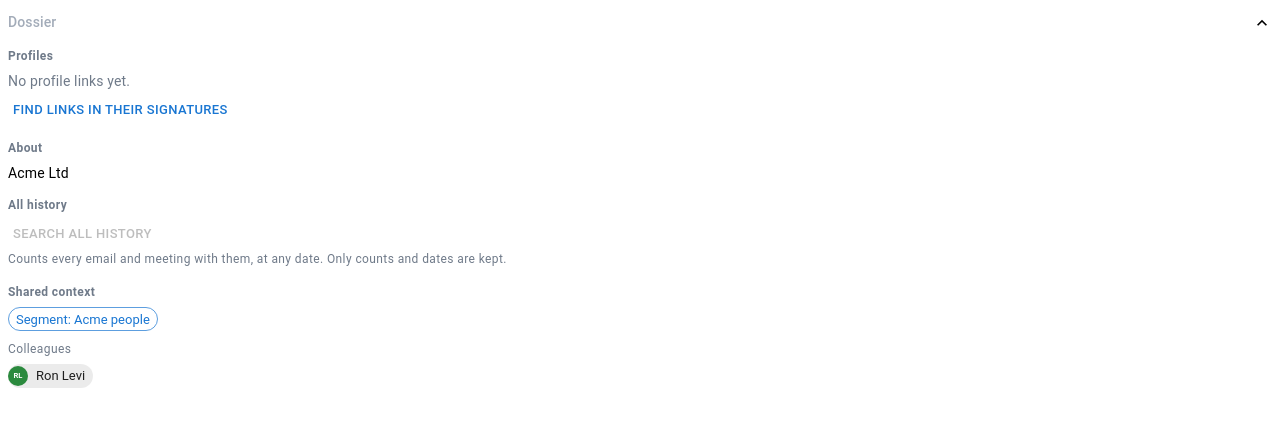
Test: the dossier (AD-46 rule 6) › does not say "no email" when their emails were only invitations
This screenshot has width=1280, height=425.
Click the button "Find links in their signatures" at point(120, 110), box top-left (8, 95), bottom-right (233, 126)
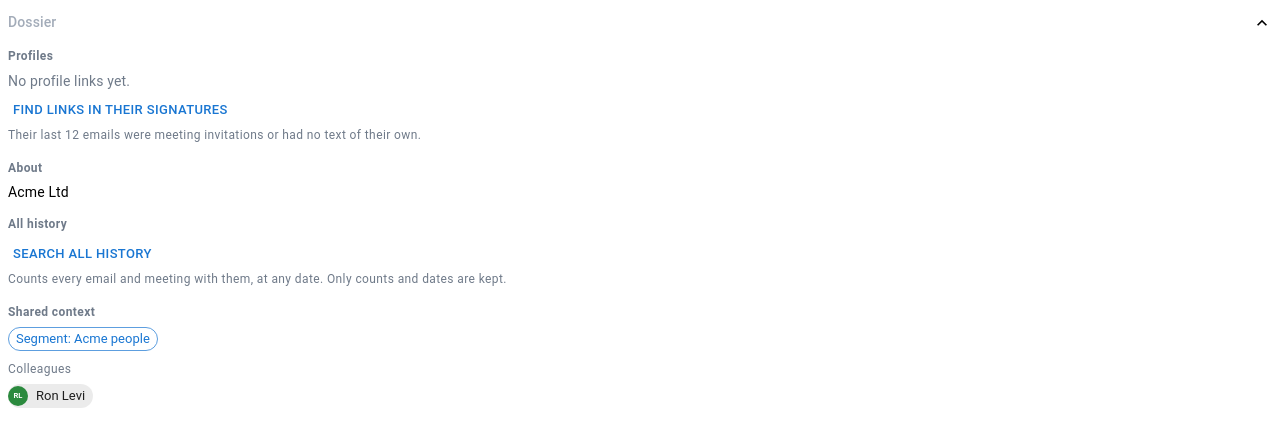
Result: the text "Their last 12 emails were meeting invitations or had no text of their own." is shown at top-left (8, 128), bottom-right (421, 142)
